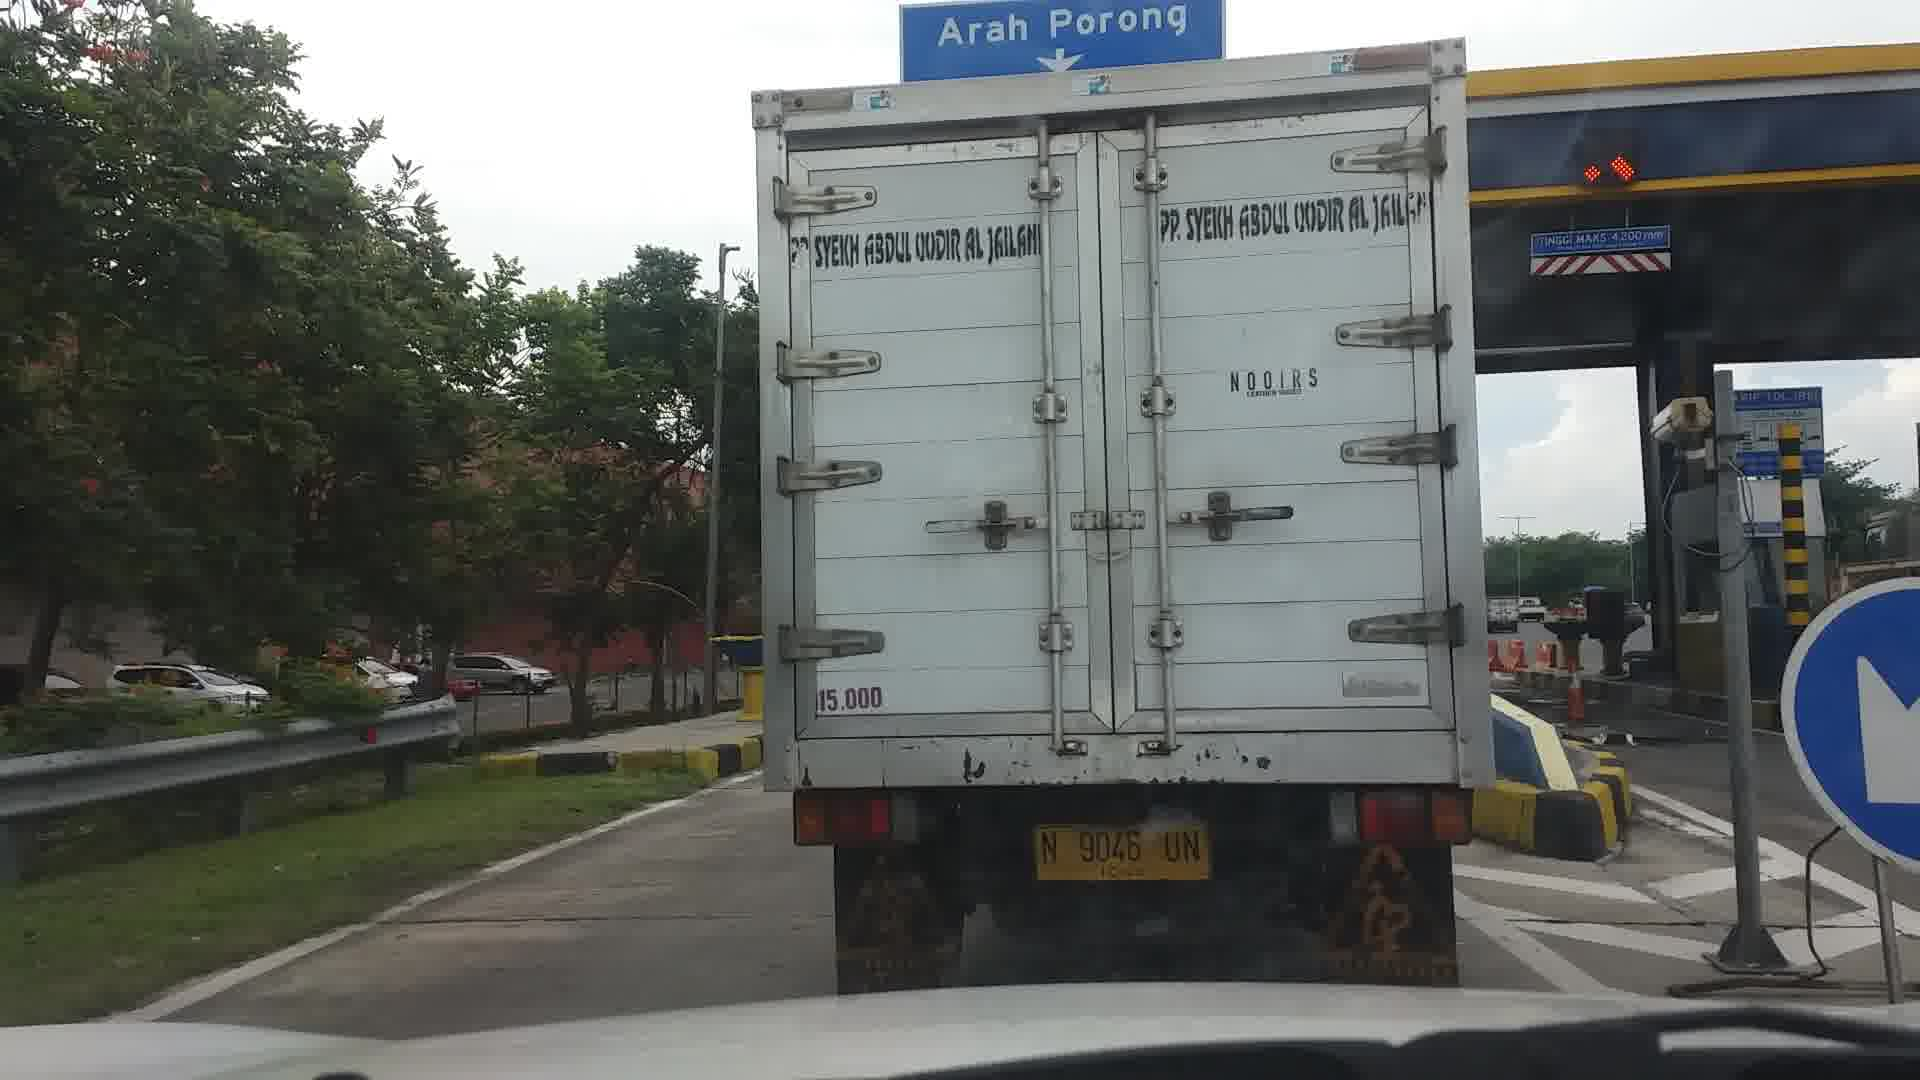plate_positive: (1035, 824, 1211, 880)
